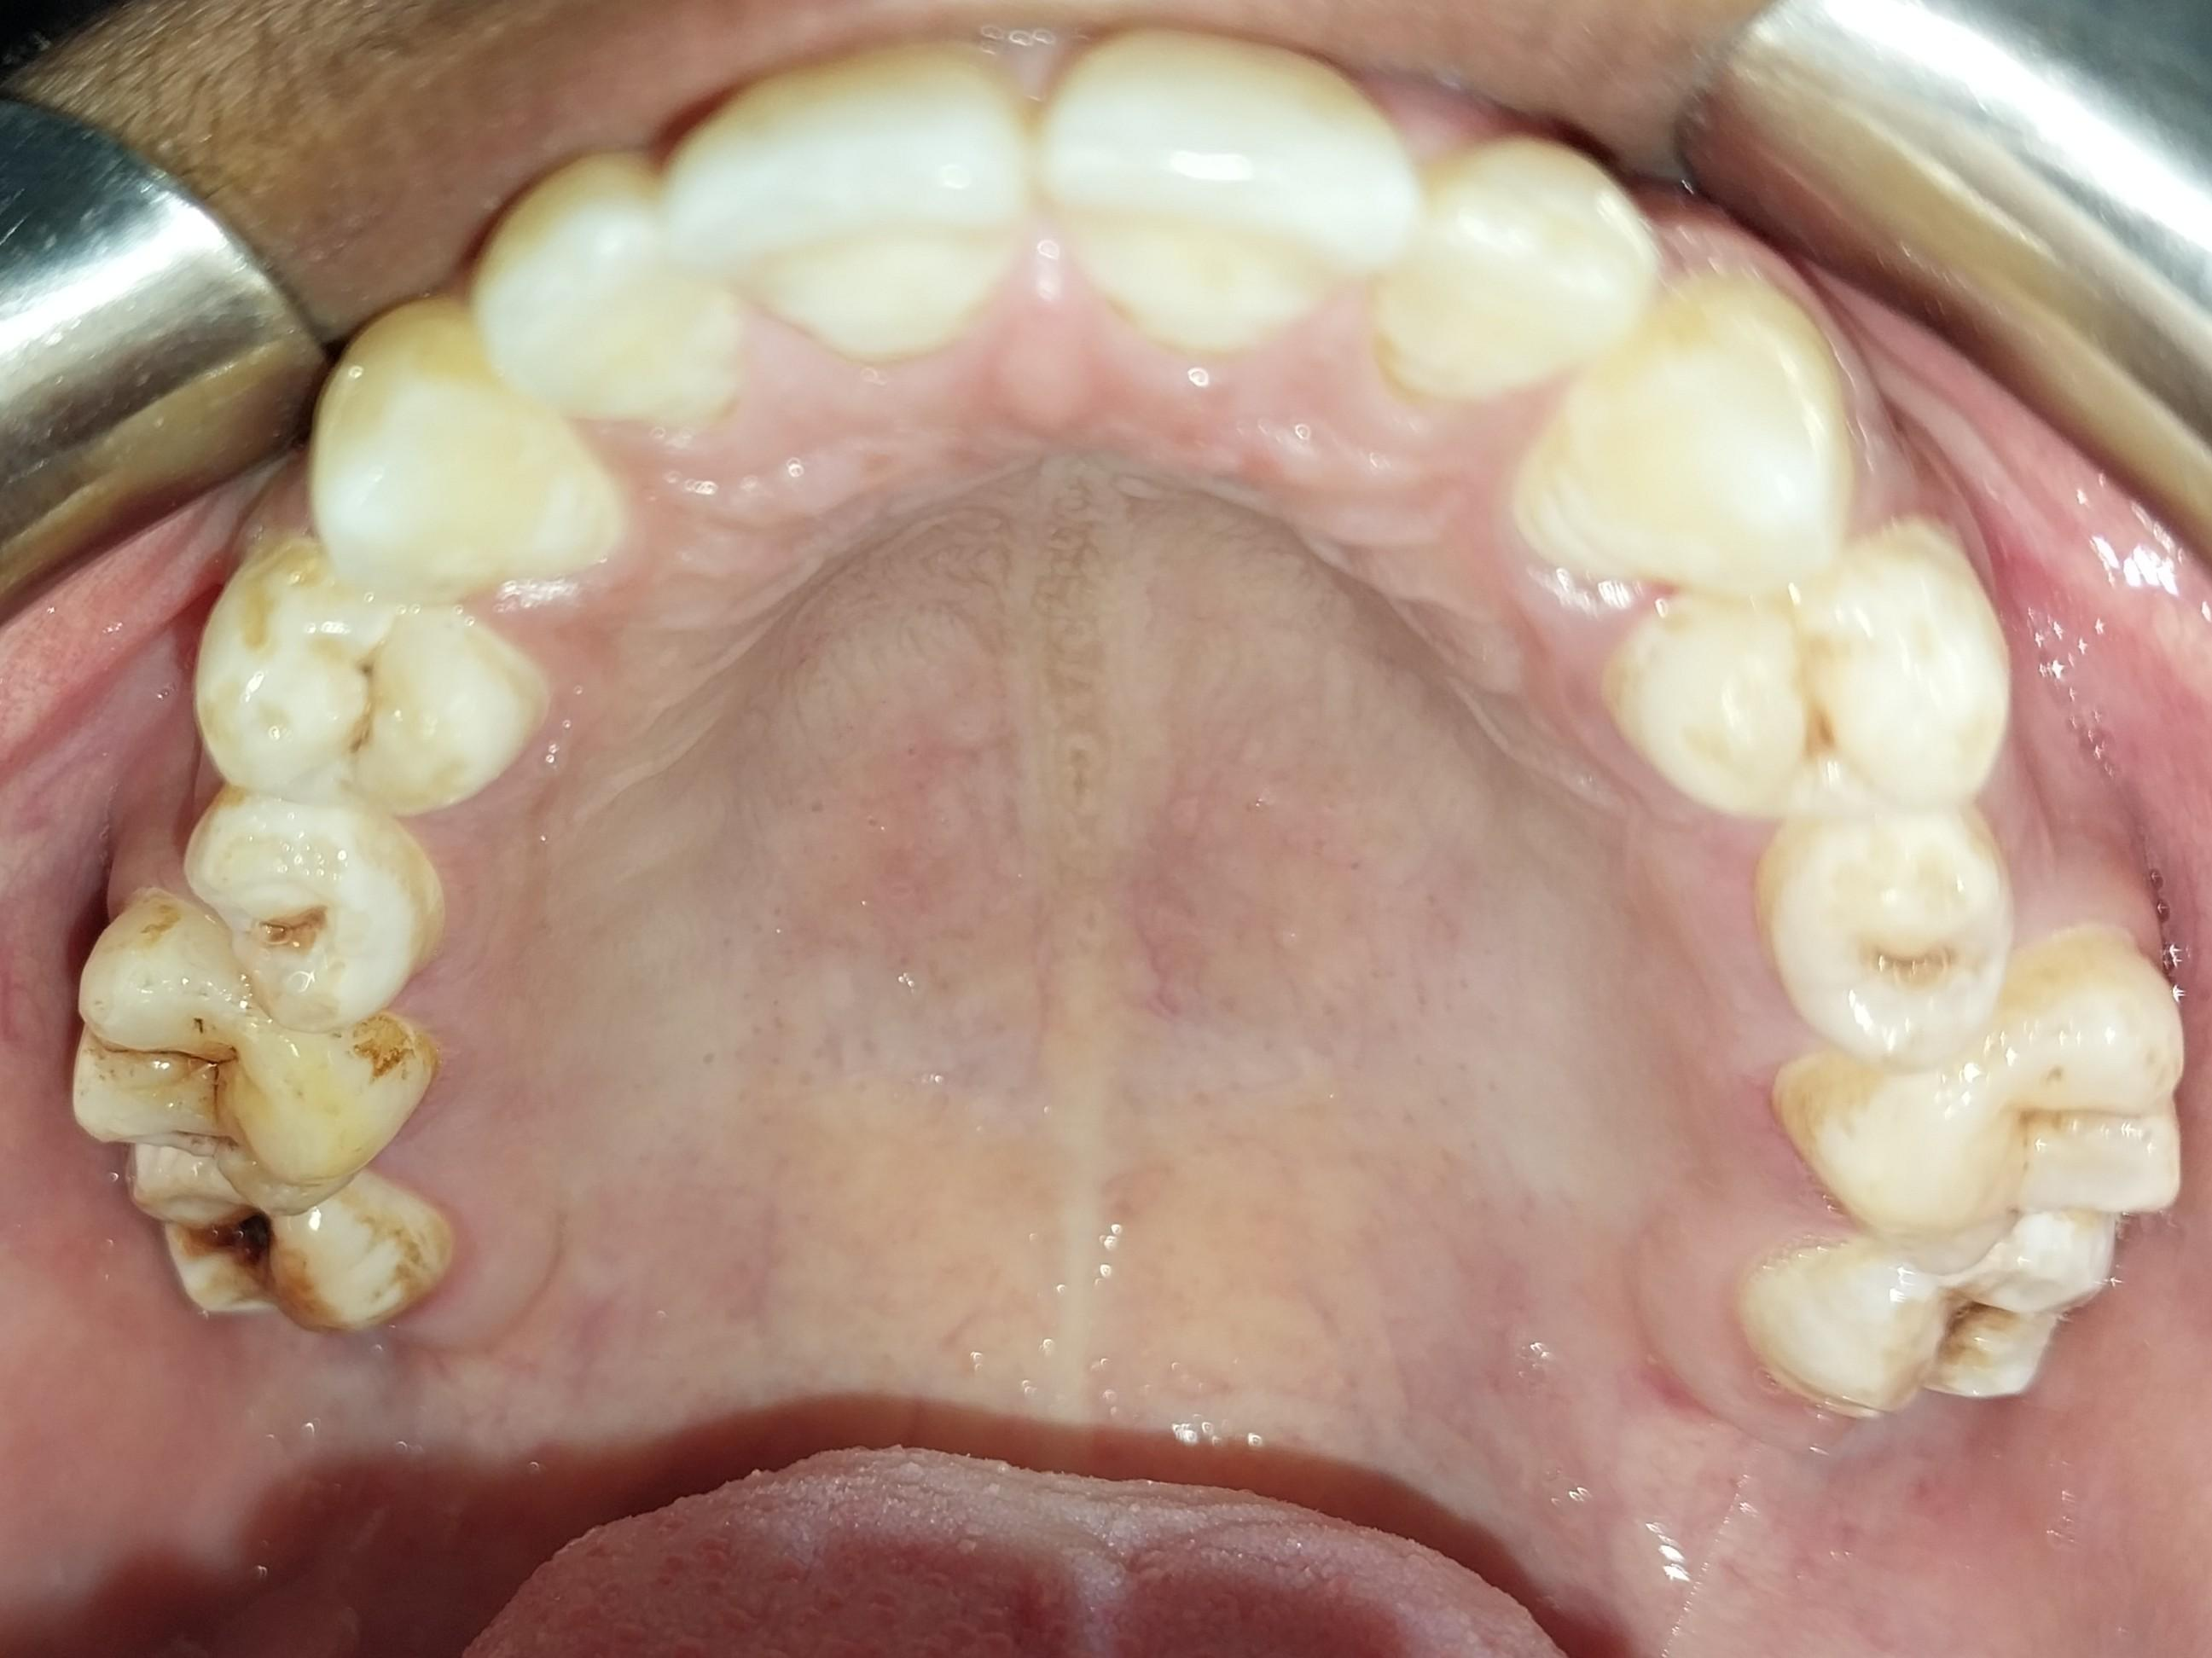D: (60, 889, 431, 1222), (191, 544, 526, 808), (1746, 1218, 2113, 1423), (169, 774, 449, 1028), (118, 1141, 449, 1351)
